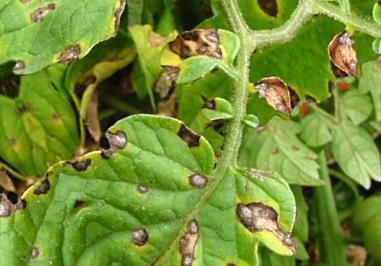Tomato leaf bacterial spot: (42, 52, 328, 266), (0, 0, 215, 105), (1, 41, 122, 185), (143, 0, 270, 121)
